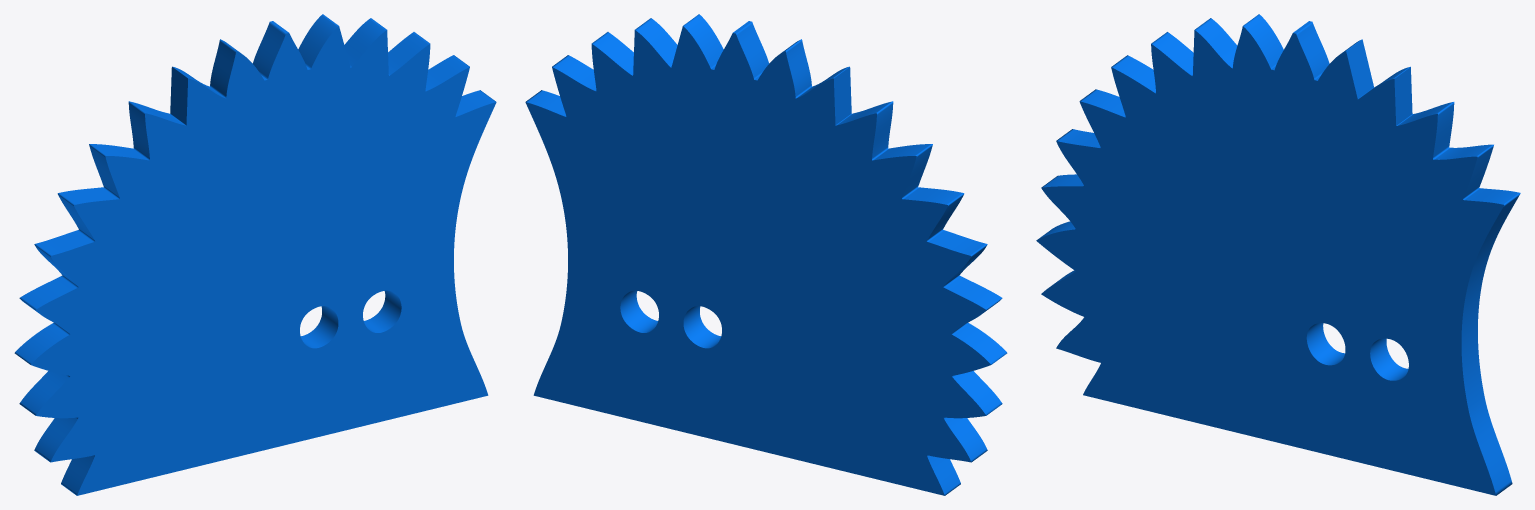
Rendered from hhl.glb.
3 renders of one model, left to right at view 1: azimuth 30°, elevation 25°; view 2: azimuth 150°, elevation 25°; view 3: azimuth 330°, elevation 25°, orthographic.
Visible parts, largest first — view 1: Curve.001; view 2: Curve.001; view 3: Curve.001.
Part boxes in pixels (x1,y1,x2,y2): Curve.001: [14, 14, 496, 495]; Curve.001: [525, 14, 1007, 495]; Curve.001: [1036, 14, 1520, 495].
Bounding box in the file's own units: 0.0793 × 0.0669 × 0.0048.
